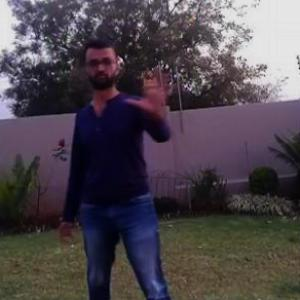follow_hand: (123, 61, 174, 116)
